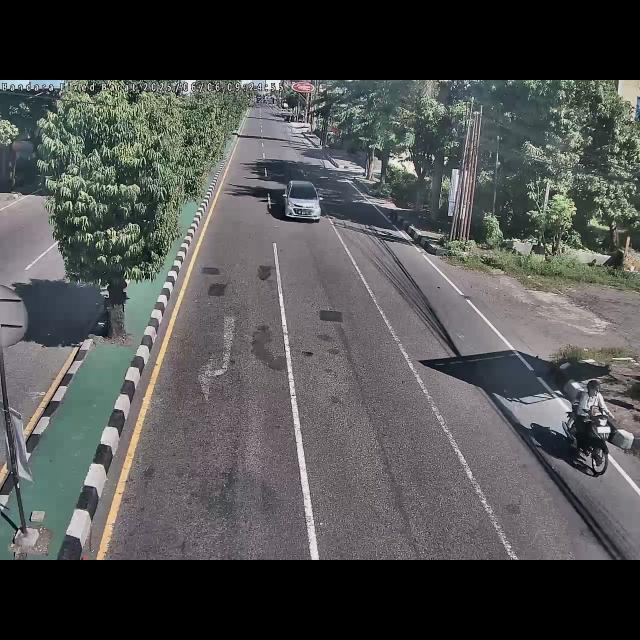Mobil: (280, 178, 324, 226)
Motor: (562, 378, 616, 476)
